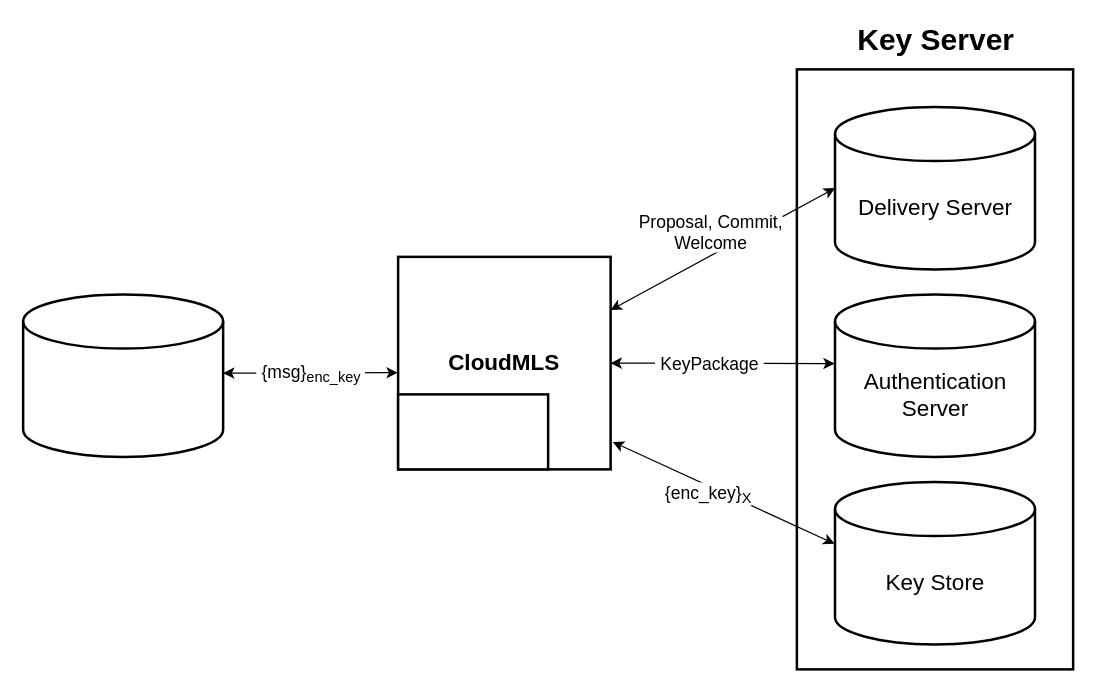
Some shapes in this 1095 by 691 pixel diagram are drawn without their labels. Here are the shapes that lost their labels. From the top down, the centre of each, then its label:
At point (122, 375): "Third party message store".
At point (472, 431): "Submodule: MLS".
